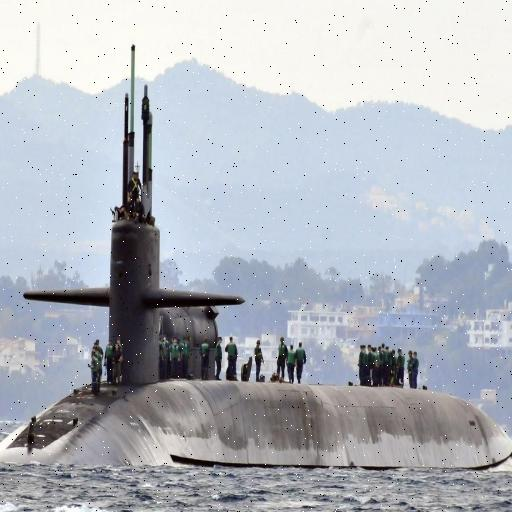submarine: (1, 32, 512, 486)
